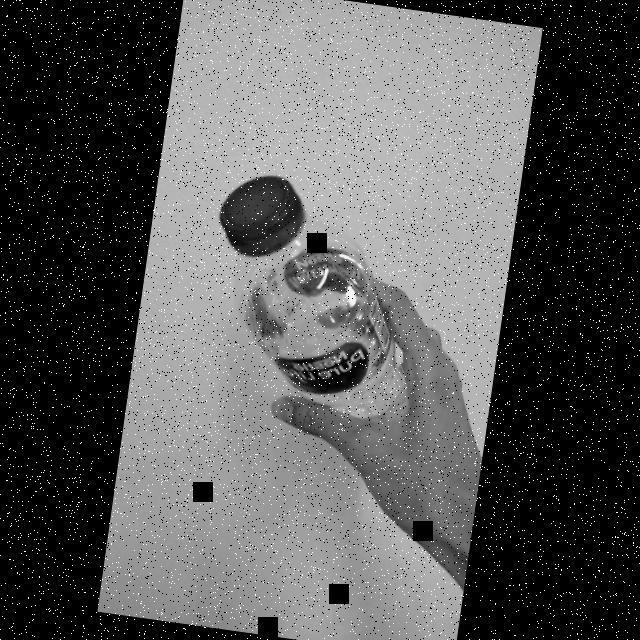plastic_bottle: (171, 158, 431, 422)
plastic_bottle_cap: (215, 162, 310, 260)
